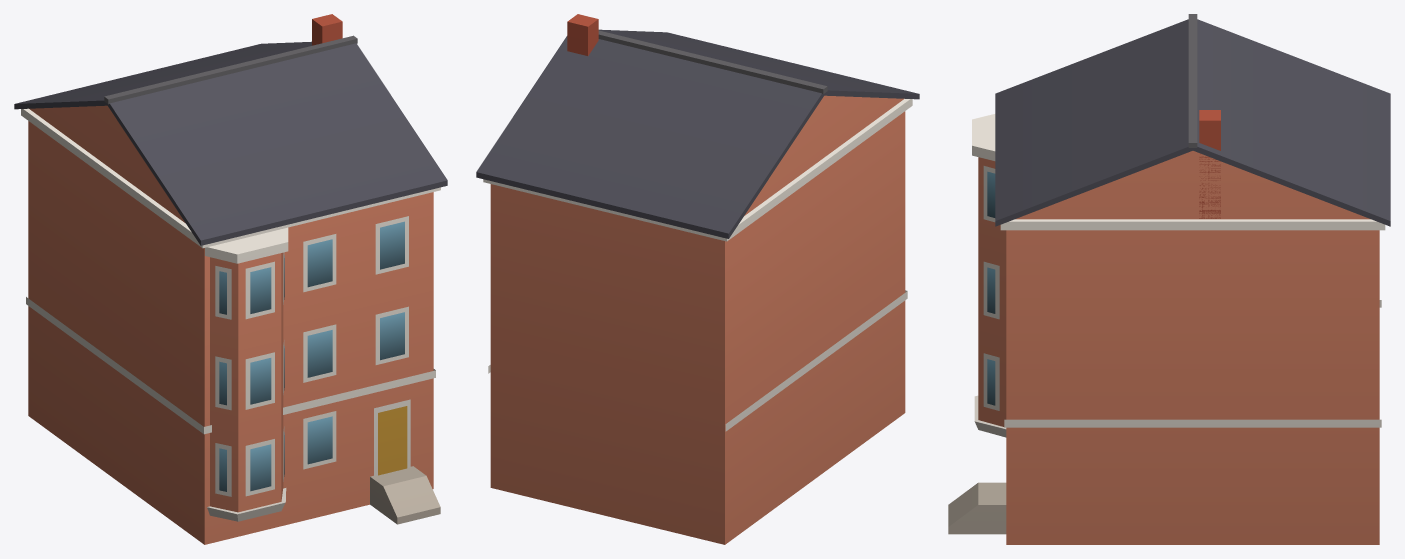
File: lane_w5_far.glb
3 views of the same model, side by side, from view 1: azimuth 30°, elevation 25°; view 2: azimuth 150°, elevation 25°; view 3: azimuth 270°, elevation 25° (orthographic). The views are drawn at different scales.
Visible parts, largest first — view 1: lane_w5_far; view 2: lane_w5_far; view 3: lane_w5_far.
Boxes of the visible parts, x1=… form: lane_w5_far: x1=14, y1=14, x2=447, y2=544; lane_w5_far: x1=476, y1=14, x2=919, y2=544; lane_w5_far: x1=948, y1=14, x2=1390, y2=544.
Size of the model in its own units: 9.8 by 15.05 by 14.21.
Materials: 1 (1 with a texture image).
